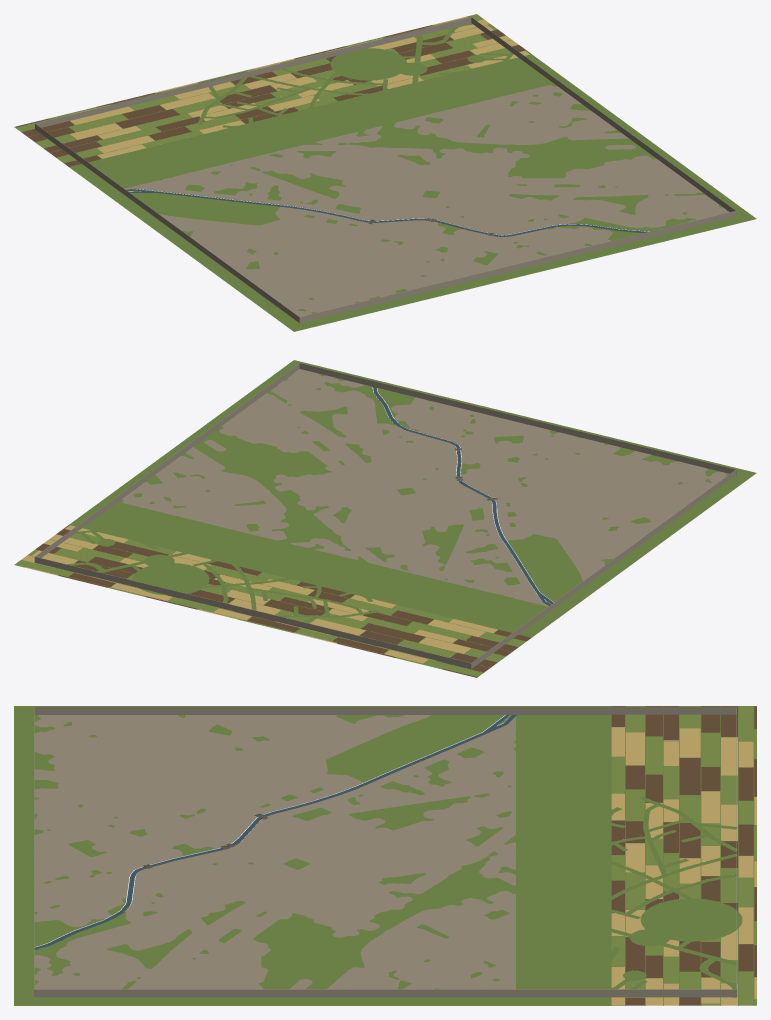
Rendered from Teren.fbx.
The picture shows the model from 3 angles, top to bottom: view 1: azimuth 30°, elevation 25°; view 2: azimuth 150°, elevation 25°; view 3: azimuth 270°, elevation 25°; orthographic projection. The views are drawn at different scales.
Parts seen in each view (by area): view 1: Teren_Miasto, Teren_Trawa, Teren_Pola, Granica_COL, Woda_Klodnica_NOCOL; view 2: Teren_Miasto, Teren_Trawa, Teren_Pola, Granica_COL, Woda_Klodnica_NOCOL; view 3: Teren_Miasto, Teren_Trawa, Teren_Pola, Granica_COL, Woda_Klodnica_NOCOL, Nabrzeze.
Part boxes in pixels (left/top/right/bottom): Teren_Miasto: left=124, top=84, right=729, bottom=316; Teren_Trawa: left=14, top=15, right=756, bottom=331; Teren_Pola: left=15, top=14, right=531, bottom=166; Granica_COL: left=34, top=17, right=736, bottom=323; Woda_Klodnica_NOCOL: left=126, top=189, right=647, bottom=236; Teren_Miasto: left=122, top=369, right=726, bottom=606; Teren_Trawa: left=16, top=360, right=756, bottom=677; Teren_Pola: left=14, top=525, right=530, bottom=677; Granica_COL: left=34, top=363, right=736, bottom=669; Woda_Klodnica_NOCOL: left=373, top=387, right=553, bottom=605; Teren_Miasto: left=34, top=715, right=515, bottom=989; Teren_Trawa: left=14, top=706, right=756, bottom=1005; Teren_Pola: left=611, top=706, right=756, bottom=1005; Granica_COL: left=34, top=707, right=736, bottom=997; Woda_Klodnica_NOCOL: left=34, top=715, right=516, bottom=949; Nabrzeze: left=35, top=715, right=516, bottom=946.
Bounding box in the file's own units: 2090 × 26.8 × 2190.
